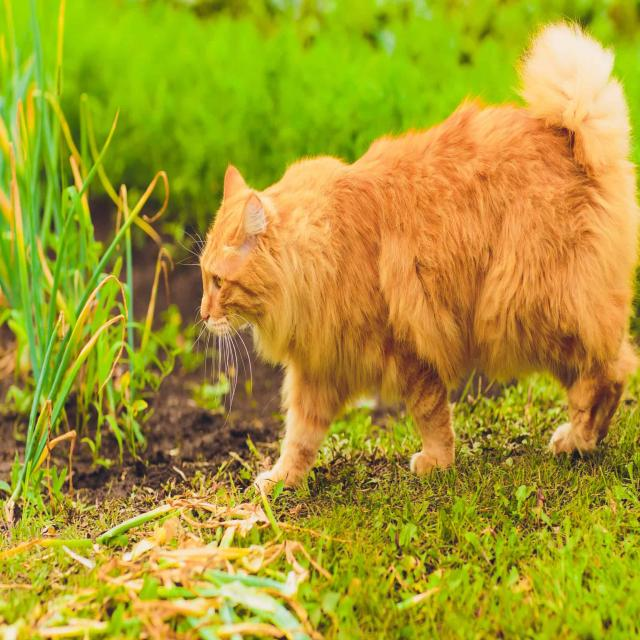American Bobtail: (195, 16, 640, 505)
